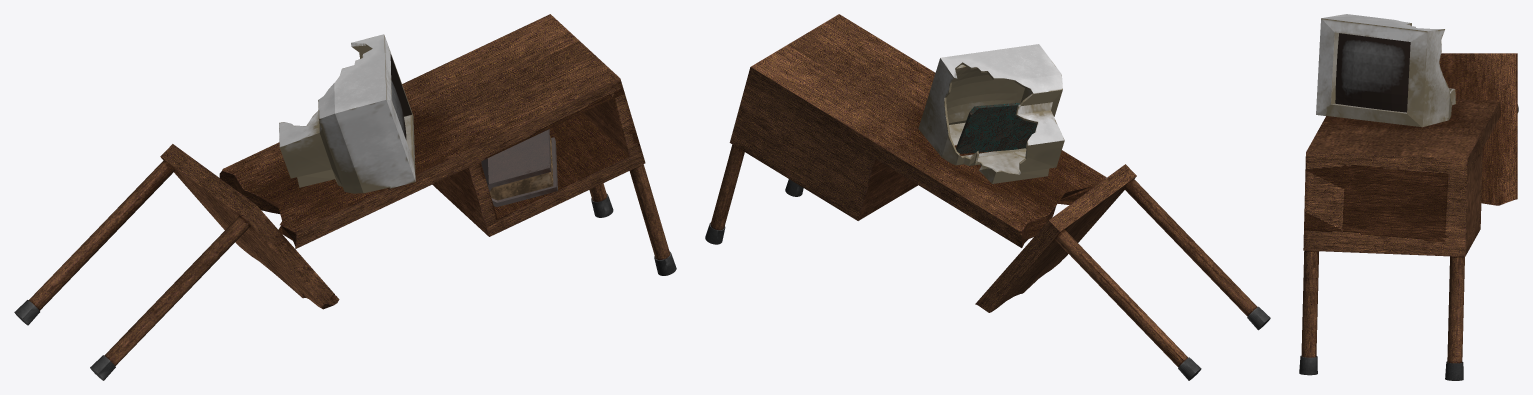
Rendered from broken_table.glb.
3 renders of one model, left to right at view 1: azimuth 30°, elevation 25°; view 2: azimuth 150°, elevation 25°; view 3: azimuth 270°, elevation 25°, orthographic. The views are drawn at different scales.
Visible parts, largest first — view 1: Table; view 2: Table; view 3: Table.
Boxes of the visible parts, x1=… form: Table: x1=14, y1=14, x2=676, y2=380; Table: x1=705, y1=14, x2=1270, y2=380; Table: x1=1299, y1=14, x2=1518, y2=380.
Size of the model in its own units: 3.21 by 1.34 by 1.11.
7 materials, 7 textured.
